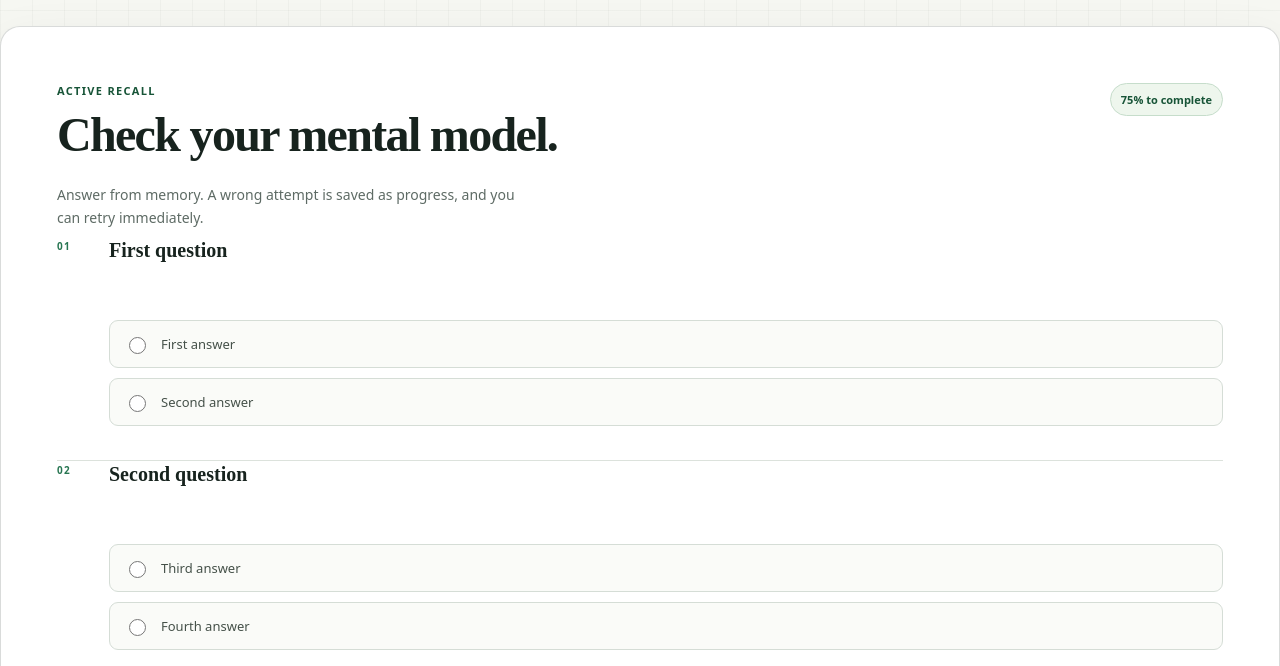
Test: LessonQuiz analytics › keeps practice hidden when another course lesson remains
This screenshot has width=1280, height=666.
Click the radio button labelled "First answer" at [138, 346], box [129,337,146,354]
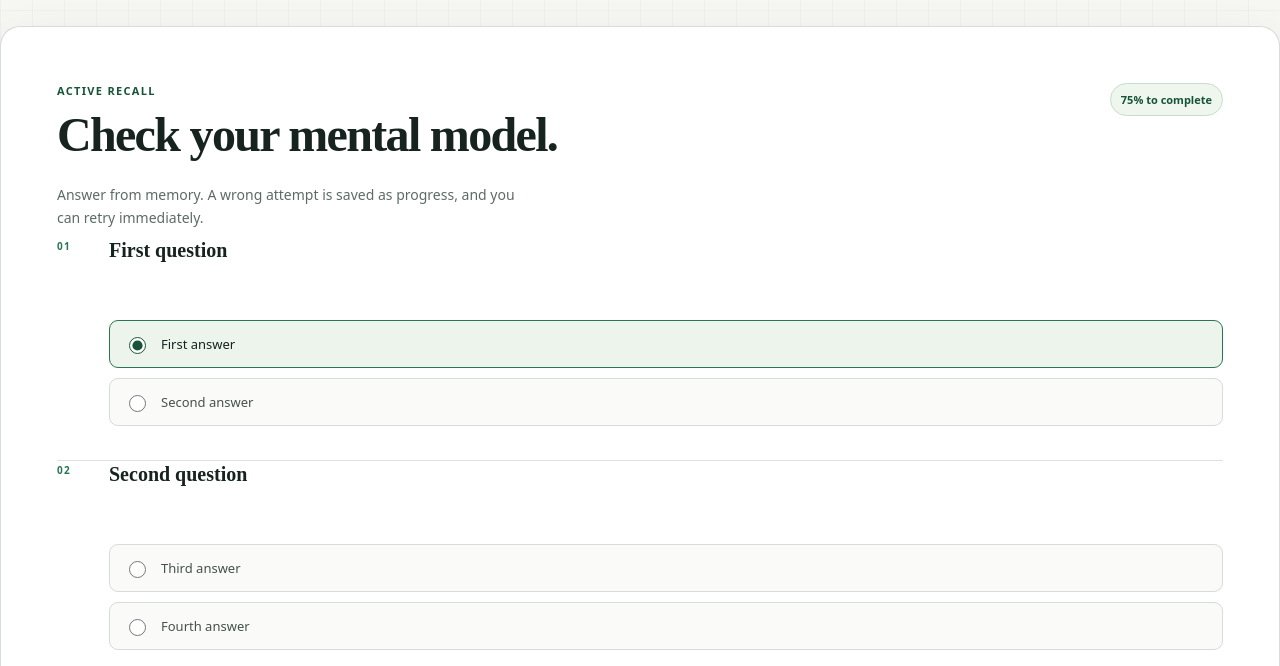
Click the radio button labelled "Third answer" at [138, 570], box [129,561,146,578]
(page scrolled)
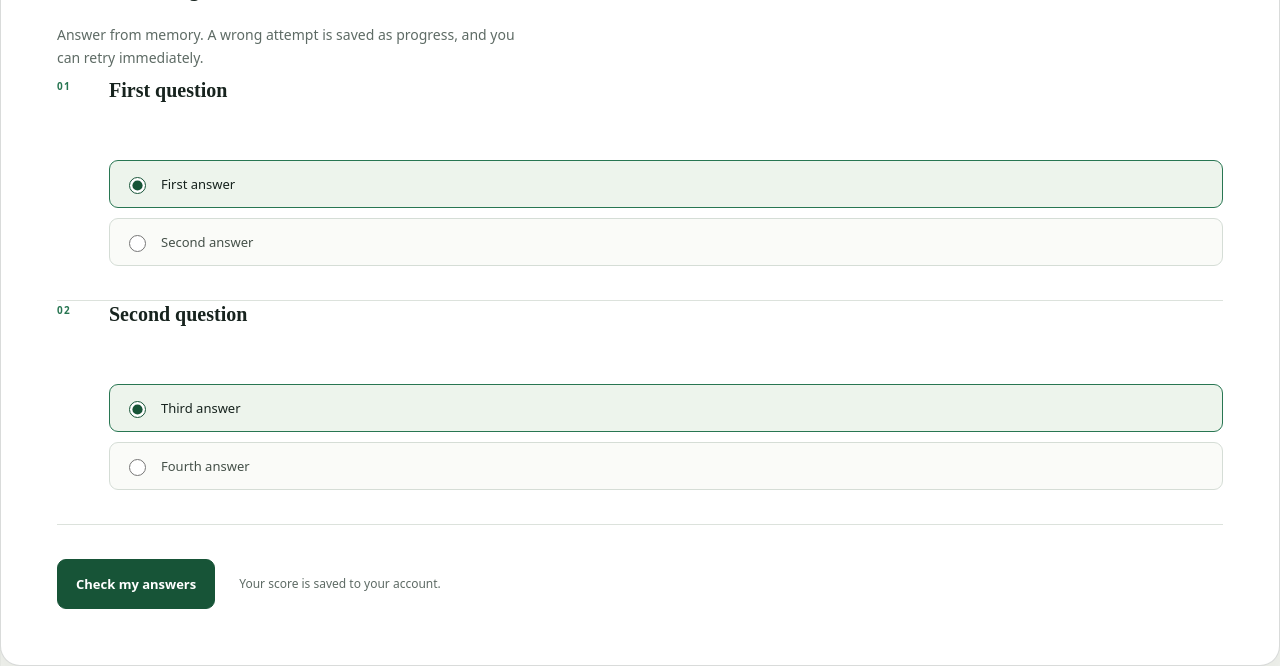
Click the button "Check my answers" at [136, 584], box [57,559,215,609]
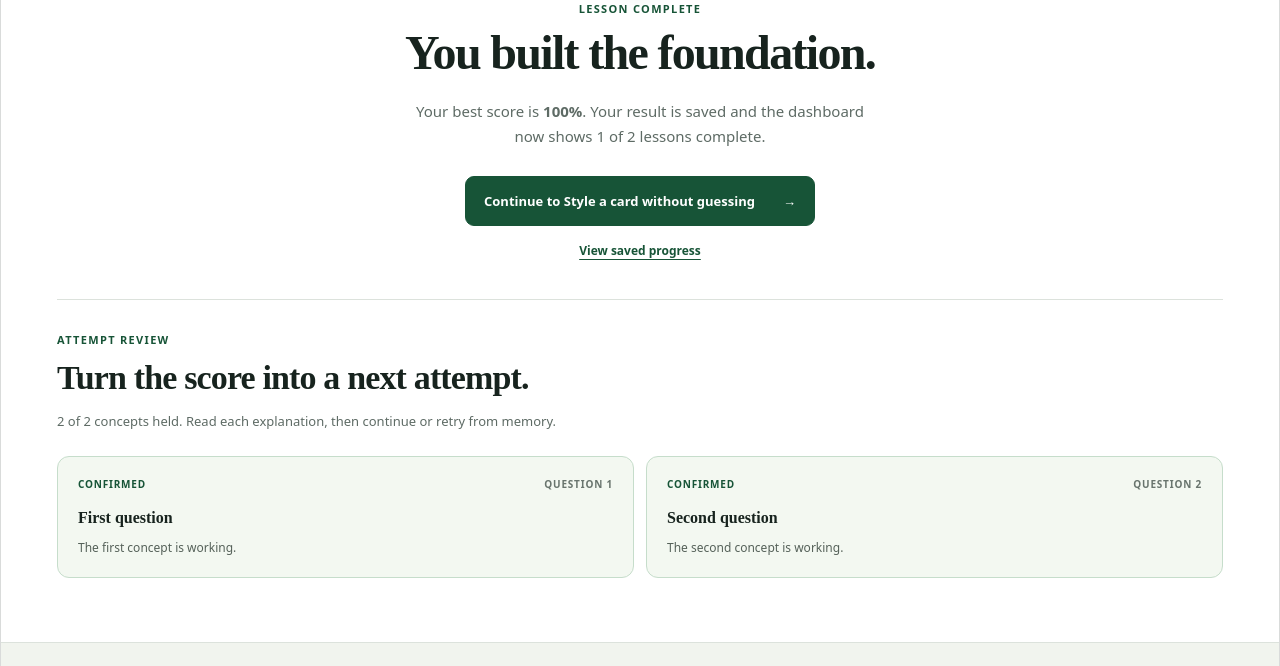
Now the heading "You built the foundation." is shown, box [405,26,875,79]
Now the text "1 of 2 lessons complete" is shown, box [408,99,872,148]
